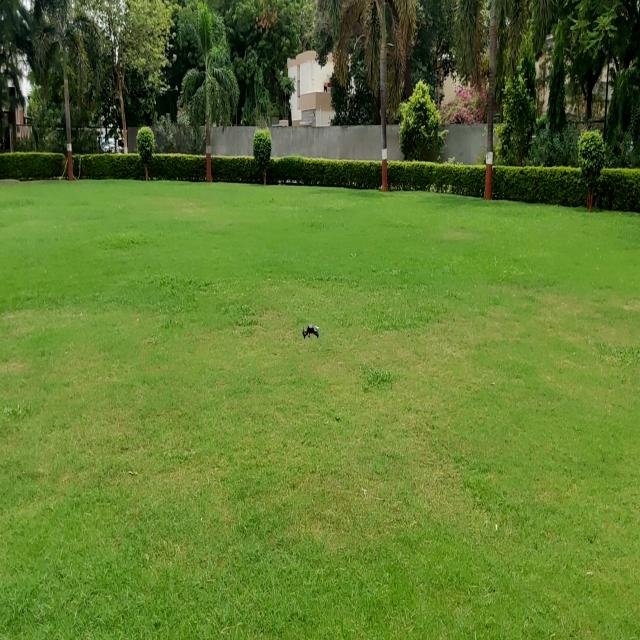drone: (295, 315, 325, 340)
